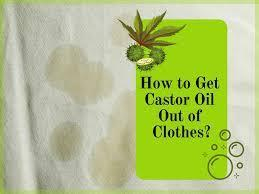mustard: (36, 42, 117, 106), (92, 92, 134, 185), (50, 120, 92, 163)
